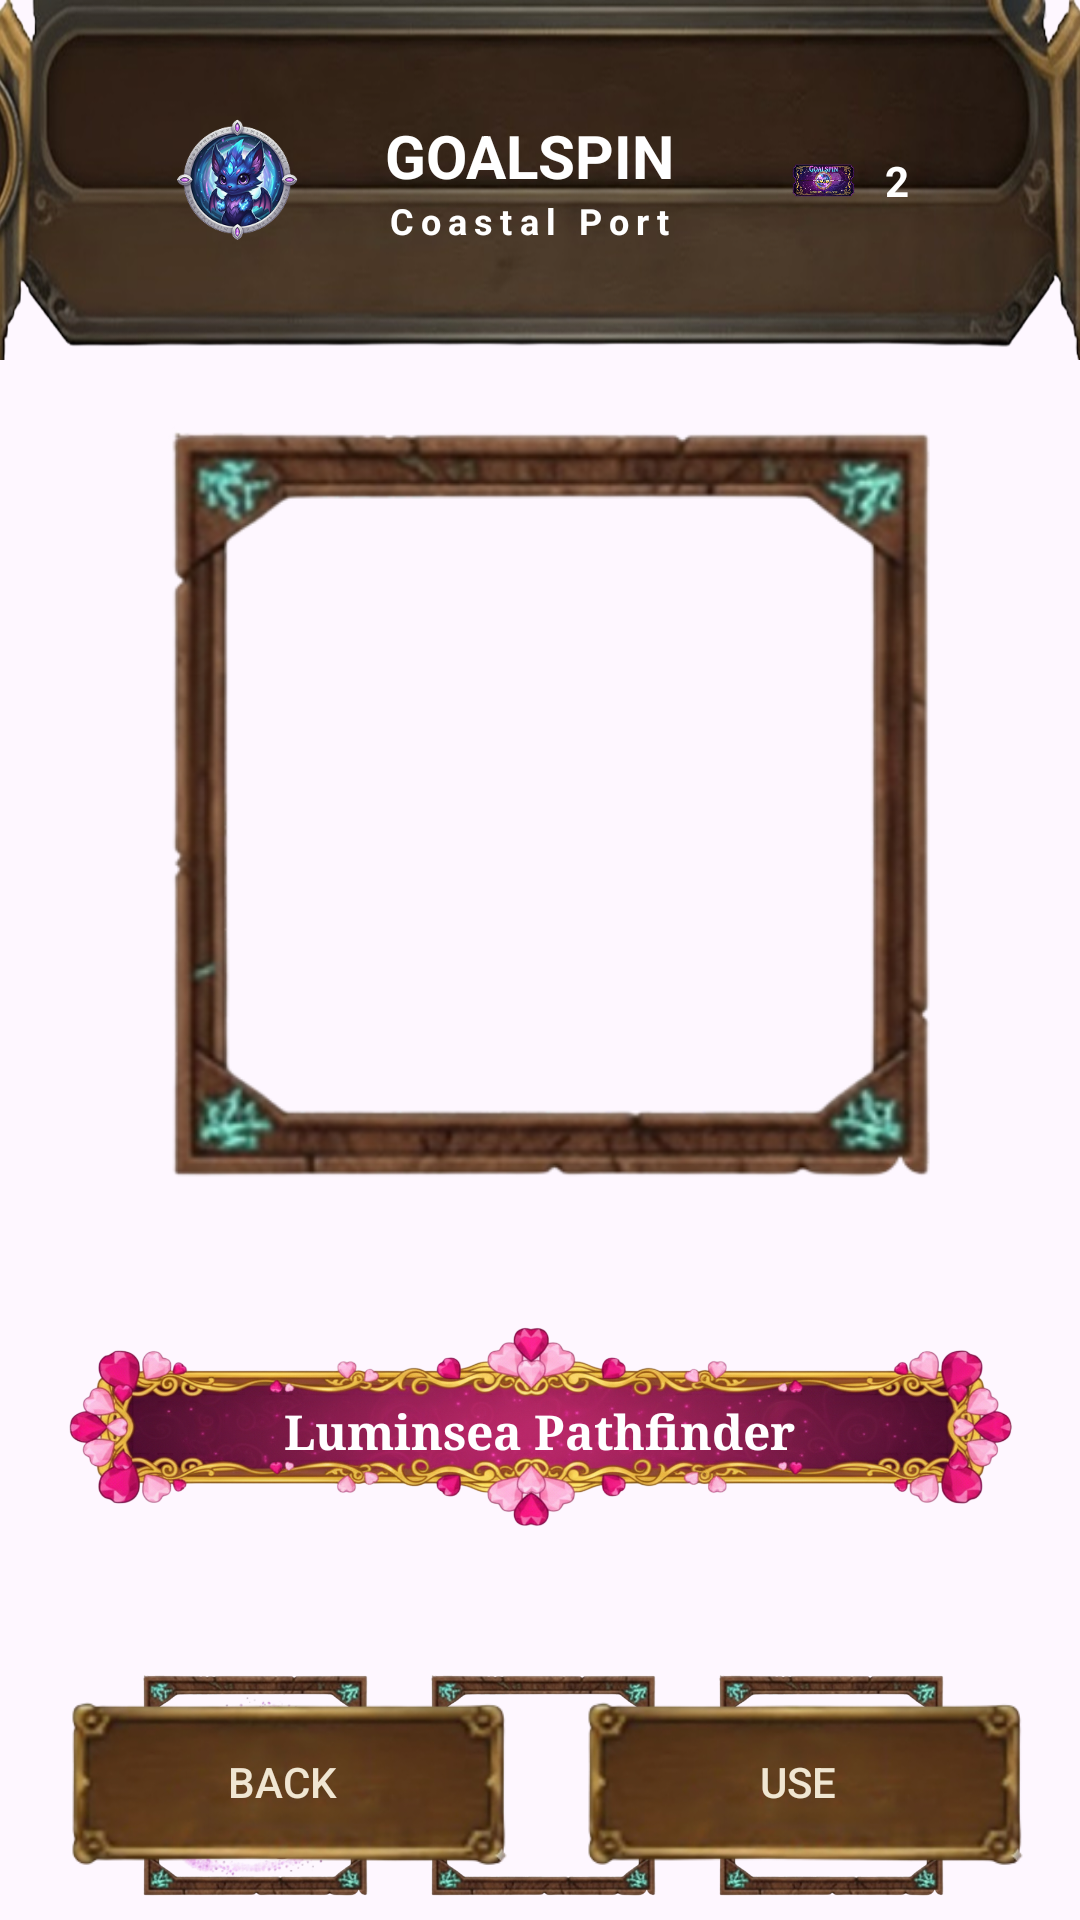

Icon click points for this 1080px x 1920px phone screenshot, format point (x, y):
proflie: point (237, 186)
ticket: point (823, 181)
